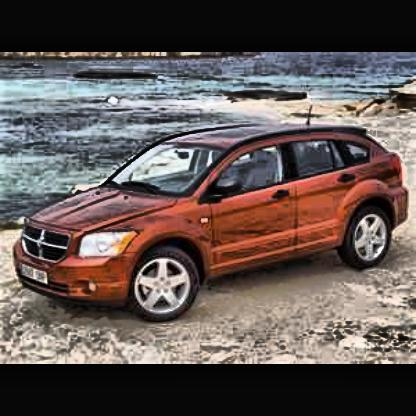Dodge Caliber Wagon 2012: (14, 123, 411, 325)
